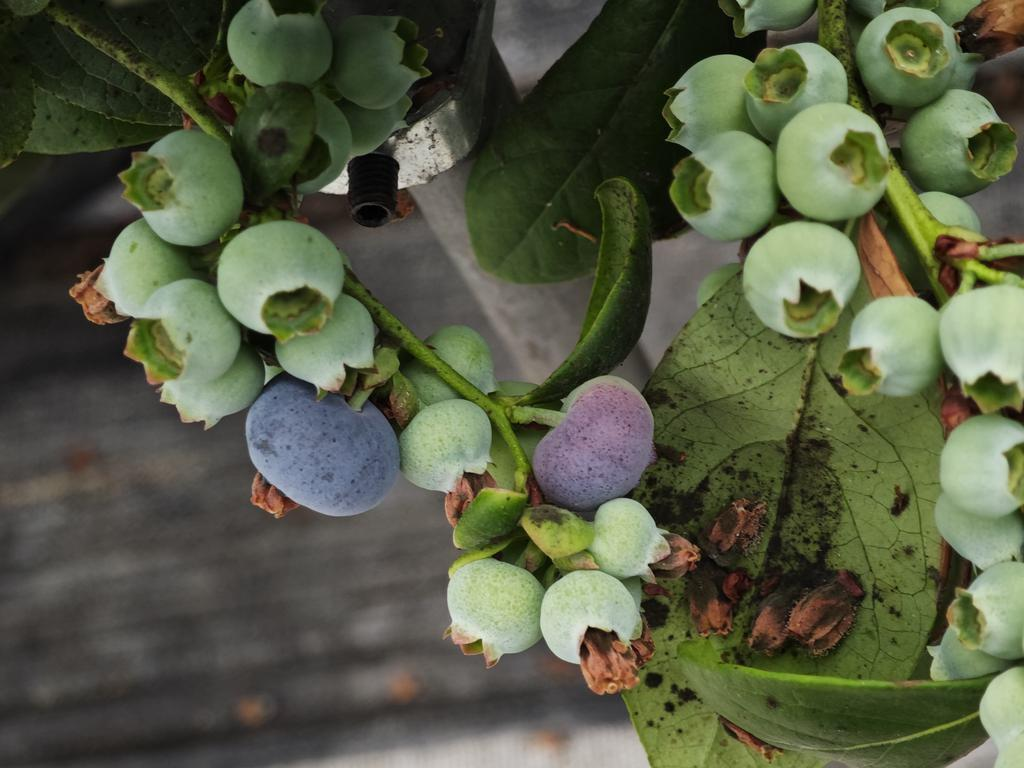RipeBlueBerry: (247, 370, 402, 523)
Semi-RipeBlueBerry: (527, 379, 660, 509)
UnripeBlueBerry: (215, 218, 347, 342), (770, 95, 894, 225)
